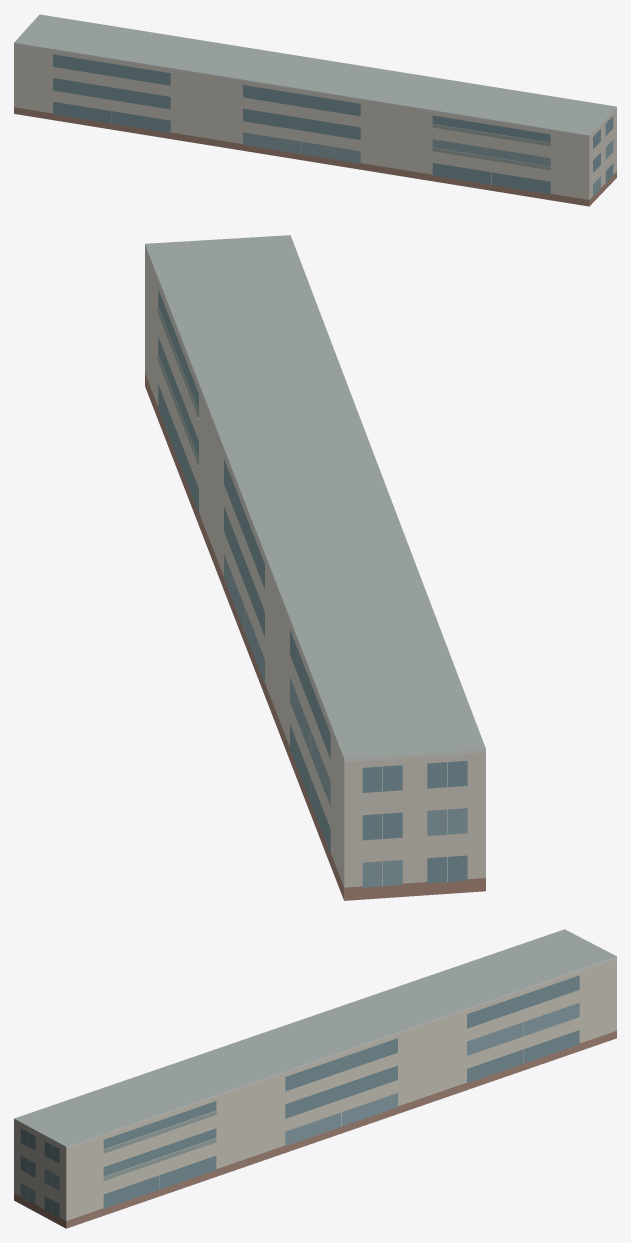
Rendered from survey-upis-32704309.glb.
3 renders of one model, top to bottom at view 1: azimuth 30°, elevation 25°; view 2: azimuth 150°, elevation 25°; view 3: azimuth 270°, elevation 25°, orthographic. The views are drawn at different scales.
Parts seen in each view (by area): view 1: survey-upis-32704309.tmp; view 2: survey-upis-32704309.tmp; view 3: survey-upis-32704309.tmp.
Boxes of the visible parts, bbox=[...] form: survey-upis-32704309.tmp: bbox=[14, 14, 616, 206]; survey-upis-32704309.tmp: bbox=[145, 235, 485, 900]; survey-upis-32704309.tmp: bbox=[14, 929, 616, 1228].
Bounding box in the file's own units: 52.08 × 9.15 × 61.
